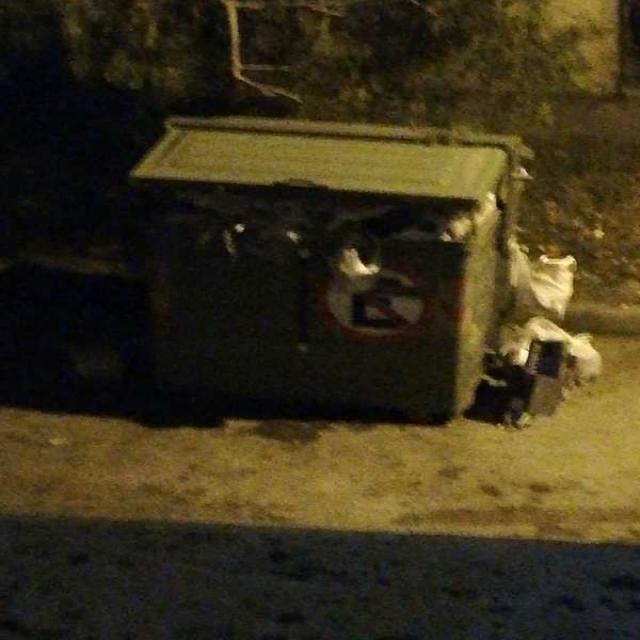garbage: (98, 184, 513, 277), (486, 209, 623, 460), (46, 318, 150, 417)
